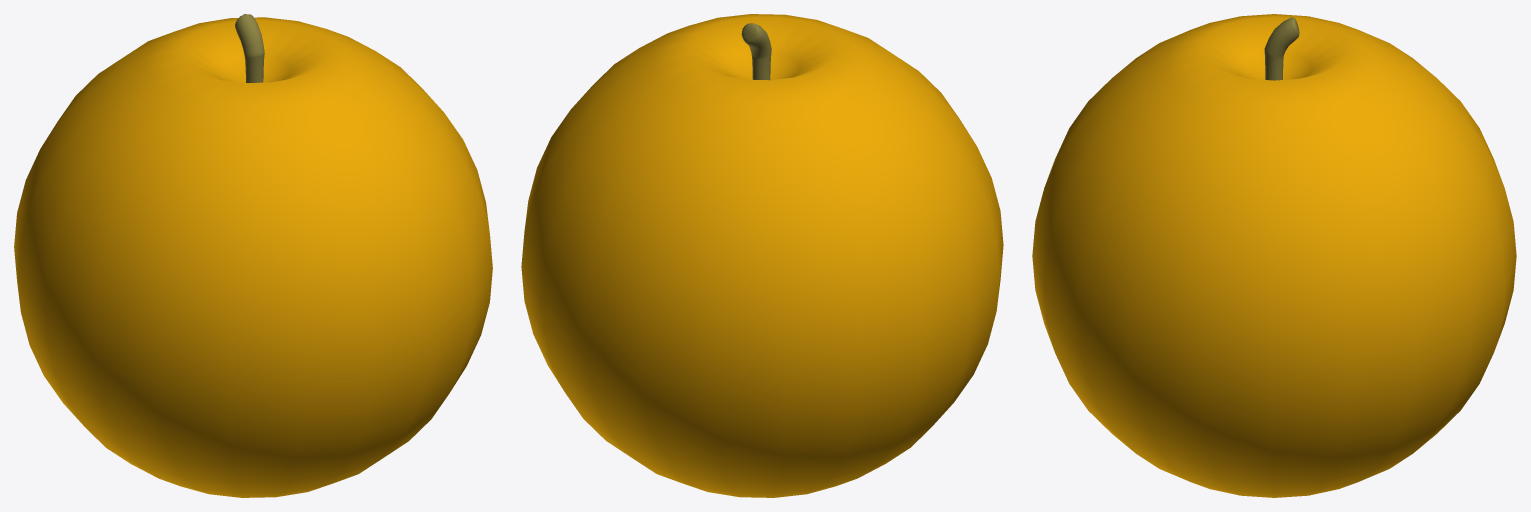
File: portakal.fbx
3 renders of one model, left to right at view 1: azimuth 30°, elevation 25°; view 2: azimuth 150°, elevation 25°; view 3: azimuth 270°, elevation 25°, orthographic.
Parts seen in each view (by area): view 1: pSphere1, pCylinder1; view 2: pSphere1, pCylinder1; view 3: pSphere1, pCylinder1.
Boxes of the visible parts, x1,y1,x2,y2 form: pSphere1: (14,17,492,497); pCylinder1: (235,14,264,82); pSphere1: (521,14,1003,497); pCylinder1: (741,23,771,80); pSphere1: (1032,14,1516,497); pCylinder1: (1264,17,1299,80).
Bounding box in the file's own units: 11.2 × 11.38 × 11.2.
